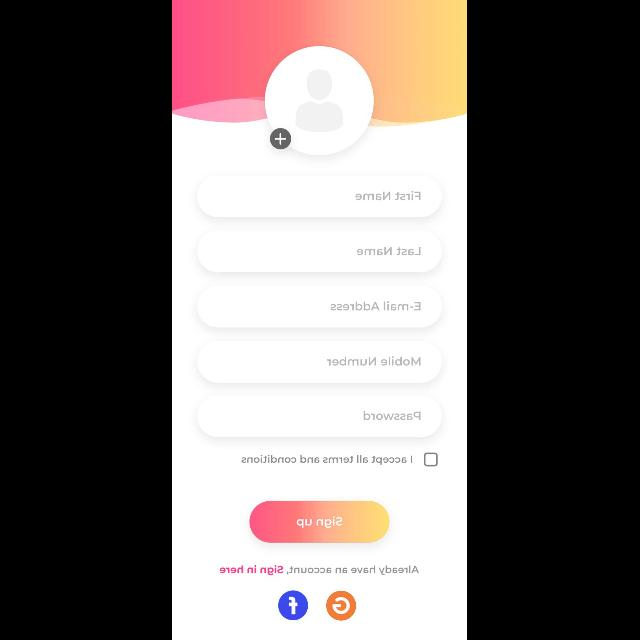checkbox: (426, 452, 438, 466)
icon: (266, 46, 374, 156), (327, 591, 357, 621), (279, 591, 309, 621), (270, 128, 292, 150)
input: (197, 286, 443, 328), (198, 176, 442, 218), (198, 231, 442, 273), (198, 341, 442, 383), (198, 395, 442, 437)
text: (220, 564, 420, 576), (242, 455, 412, 465), (327, 356, 421, 366), (331, 302, 421, 310), (358, 247, 420, 256), (356, 192, 422, 200), (364, 412, 422, 421)
textbutton: (250, 501, 390, 543)
